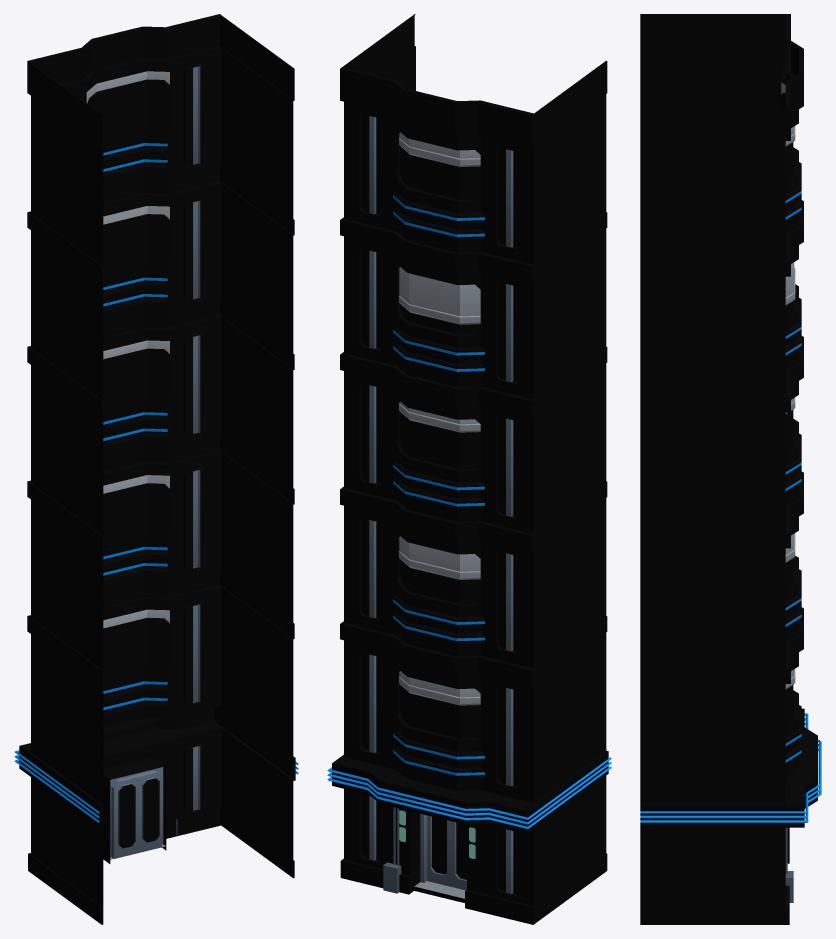
Rendered from Ciudad_Edificio_05.FBX.
3 renders of one model, left to right at view 1: azimuth 30°, elevation 25°; view 2: azimuth 150°, elevation 25°; view 3: azimuth 270°, elevation 25°, orthographic.
Parts seen in each view (by area): view 1: Ciudad_Edificio_05; view 2: Ciudad_Edificio_05; view 3: Ciudad_Edificio_05.
Part boxes in pixels (bbox=[...]): Ciudad_Edificio_05: bbox=[14, 14, 298, 924]; Ciudad_Edificio_05: bbox=[327, 14, 611, 924]; Ciudad_Edificio_05: bbox=[640, 14, 821, 924].
Size of the model in its own units: 817 by 631 by 3137.
